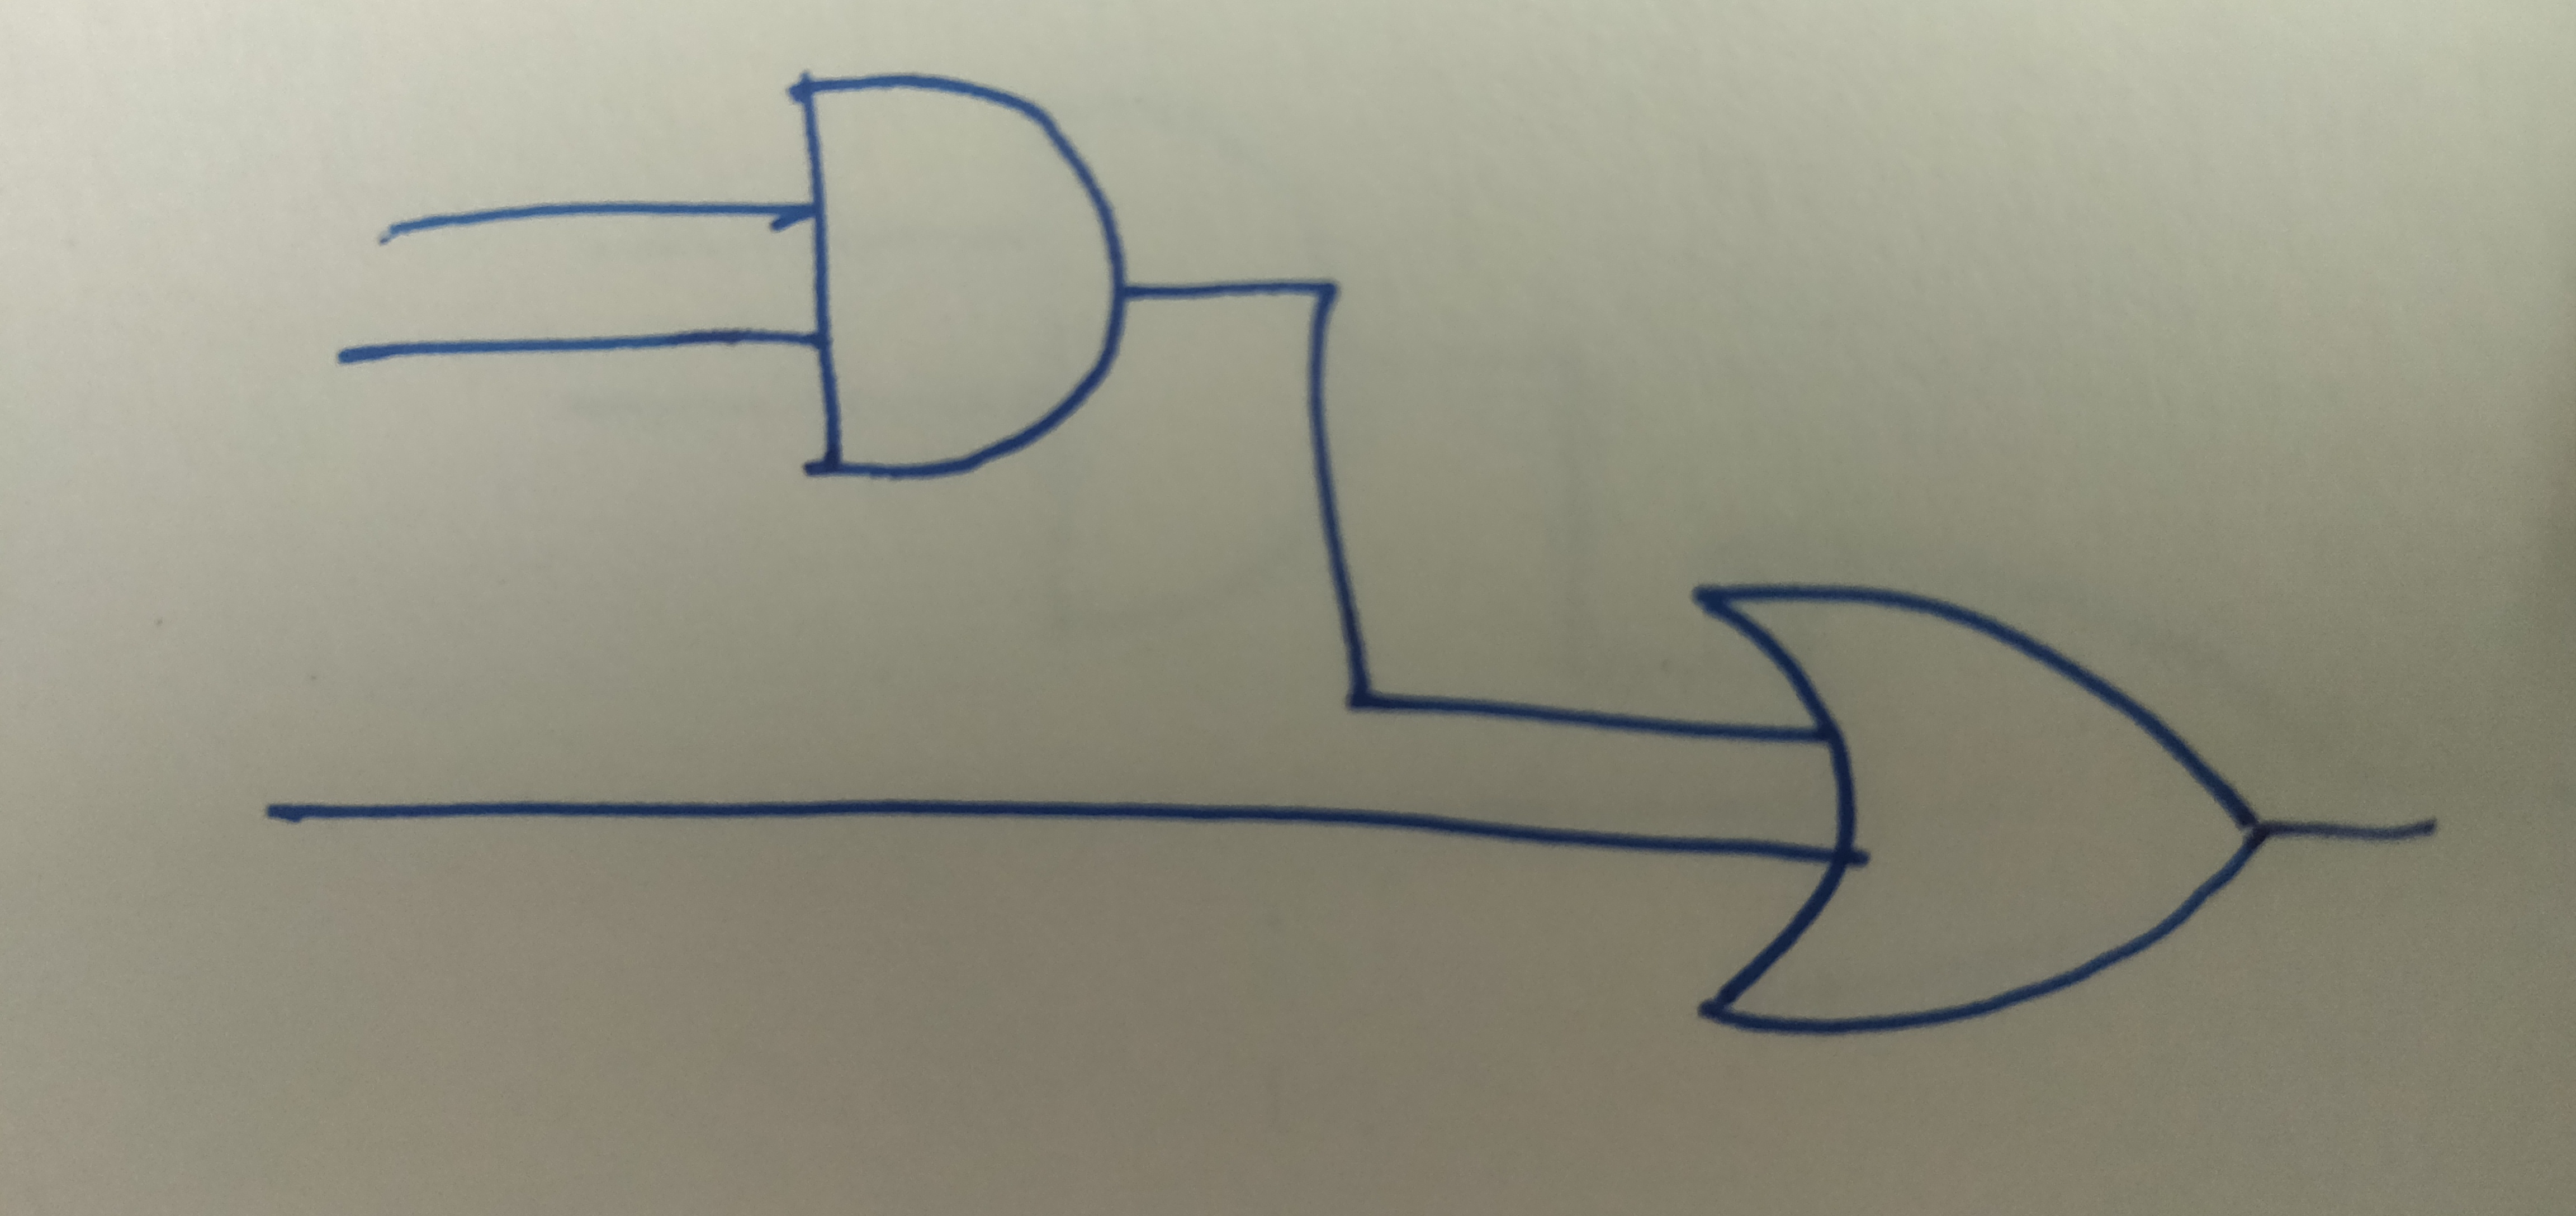and: (784, 69, 1137, 483)
or: (1682, 575, 2277, 1039)
